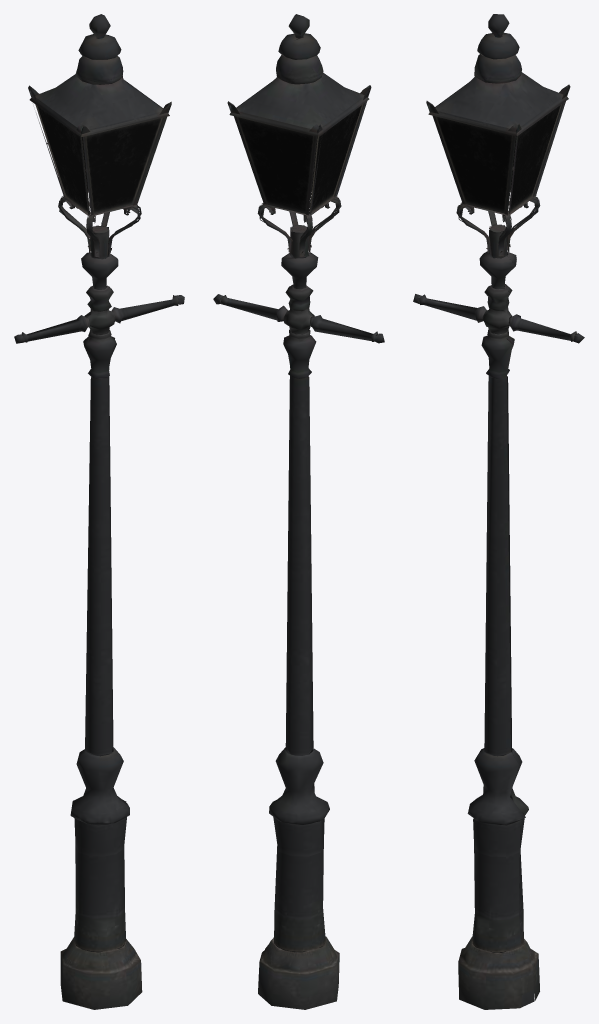
The model's file is ph_street_lamp_01.glb.
The picture shows the model from 3 angles, left to right: view 1: azimuth 30°, elevation 25°; view 2: azimuth 150°, elevation 25°; view 3: azimuth 330°, elevation 25°; orthographic projection.
Visible parts, largest first — view 1: street_lamp_01; view 2: street_lamp_01; view 3: street_lamp_01.
Part boxes in pixels (<box>): street_lamp_01: <box>14,14,184,1009</box>; street_lamp_01: <box>213,14,384,1009</box>; street_lamp_01: <box>413,14,584,1009</box>.
Bounding box in the file's own units: 0.7014 × 3.87 × 0.3842.
3 materials, 3 textured.
